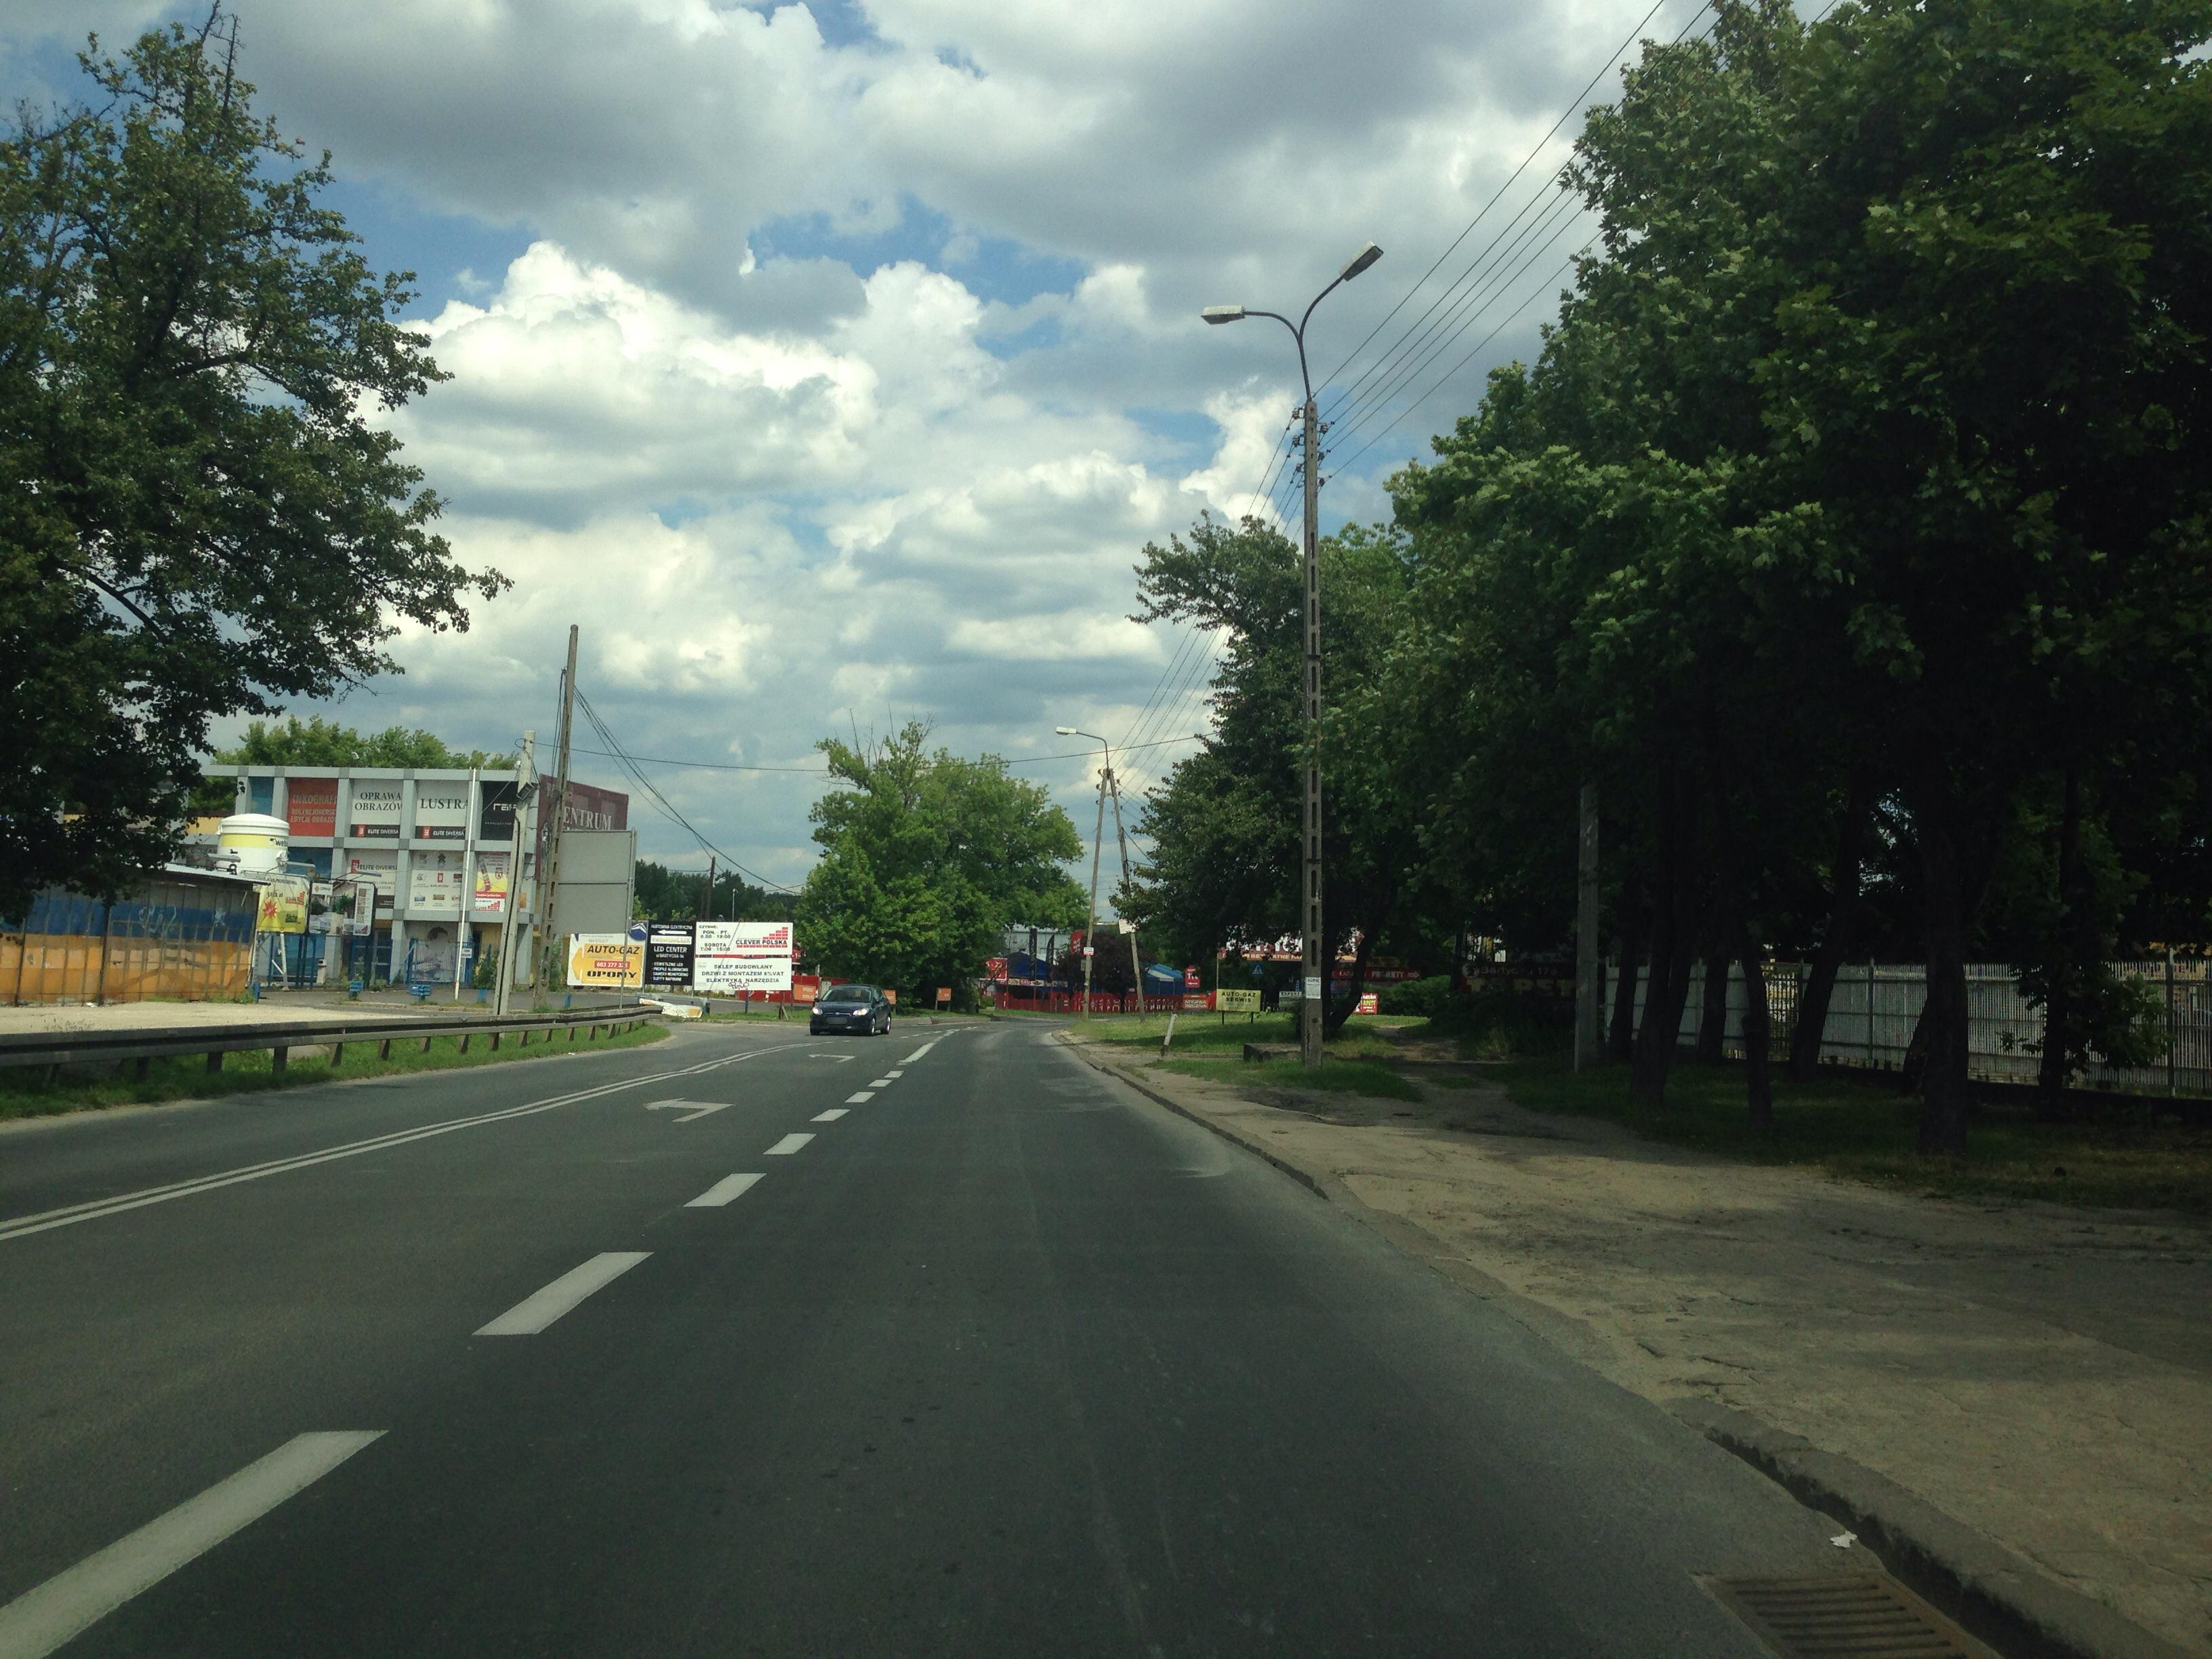vinyl banner: (559, 931, 648, 999)
